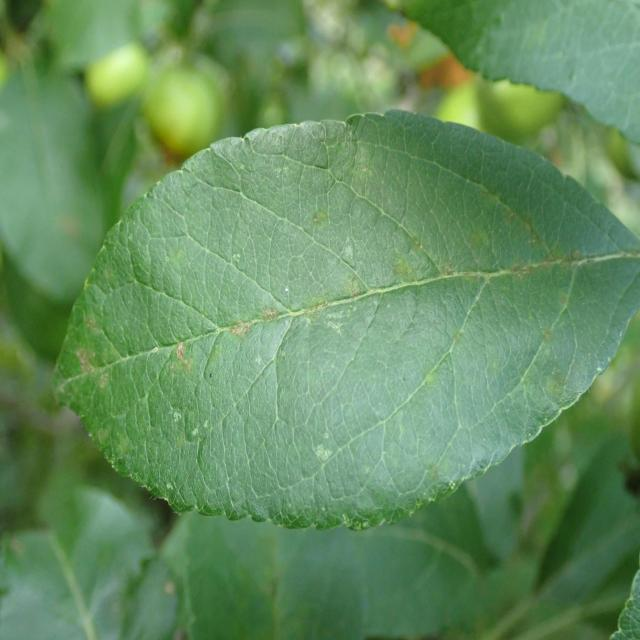scab: (59, 192, 599, 451)
